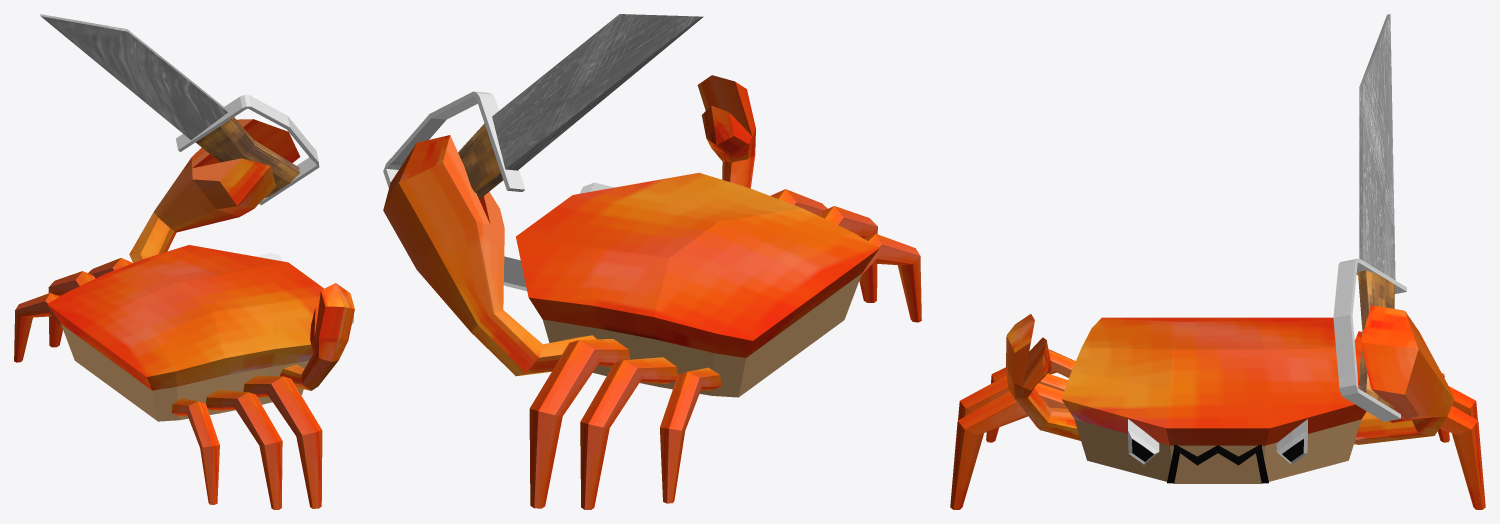
Rendered from StabbyCrab.fbx.
3 renders of one model, left to right at view 1: azimuth 30°, elevation 25°; view 2: azimuth 150°, elevation 25°; view 3: azimuth 270°, elevation 25°, orthographic. The views are drawn at different scales.
Parts seen in each view (by area): view 1: Cylinder.010; view 2: Cylinder.010; view 3: Cylinder.010.
Boxes of the visible parts, box(x1,y1,x2,y2) form: Cylinder.010: box(14, 14, 354, 509); Cylinder.010: box(383, 14, 921, 509); Cylinder.010: box(950, 14, 1485, 509).
Size of the model in its own units: 267 by 345 by 378.
7 materials, 3 textured.
